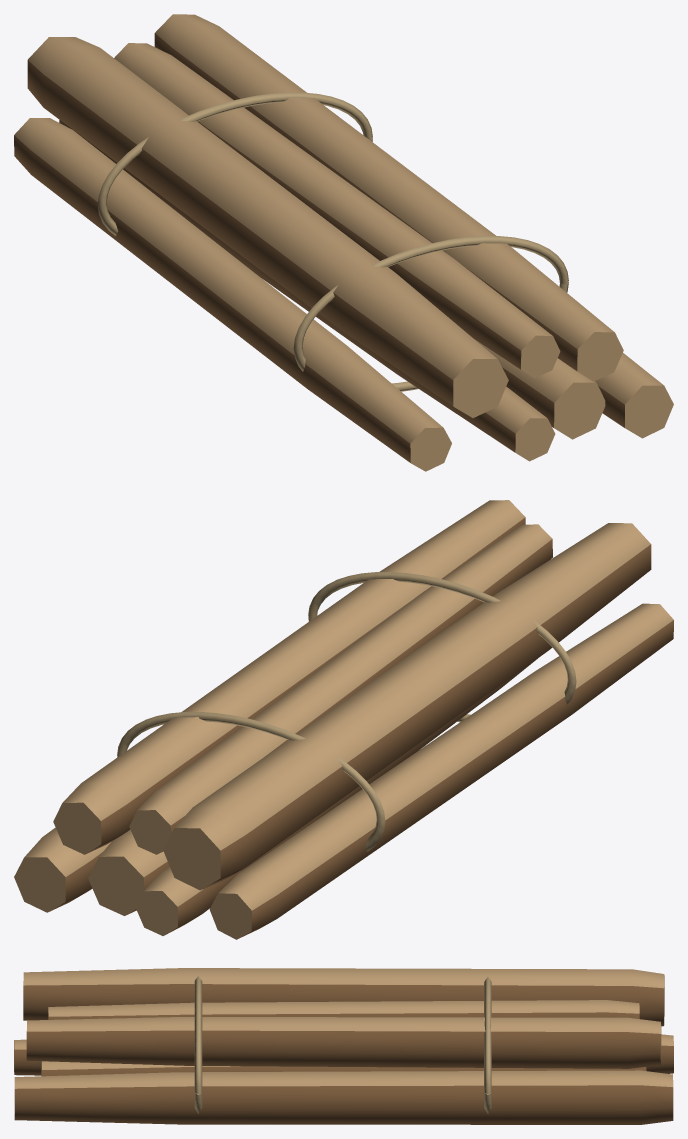
The model's file is split_kindling.glb.
3 renders of one model, top to bottom at view 1: azimuth 30°, elevation 25°; view 2: azimuth 150°, elevation 25°; view 3: azimuth 270°, elevation 25°, orthographic. The views are drawn at different scales.
Parts seen in each view (by area): view 1: split_kindling; view 2: split_kindling; view 3: split_kindling.
Part boxes in pixels (x1,y1,x2,y2): split_kindling: (14,14,673,471); split_kindling: (14,500,673,939); split_kindling: (14,968,673,1124).
Size of the model in its own units: 0.1468 by 0.0728 by 0.4125.
